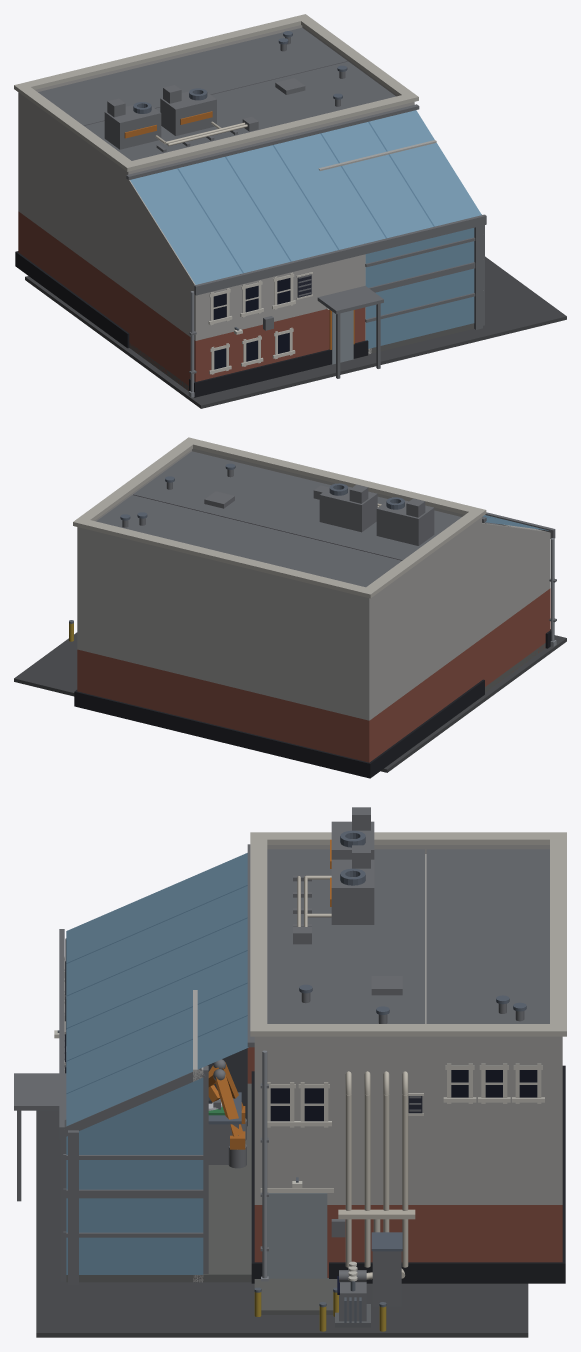
The model's file is high_tech_manufactory_lvl2.glb.
3 renders of one model, top to bottom at view 1: azimuth 30°, elevation 25°; view 2: azimuth 150°, elevation 25°; view 3: azimuth 270°, elevation 25°, orthographic. The views are drawn at different scales.
Parts seen in each view (by area): view 1: high_tech_manufactory, high_tech_manufactory_Glass; view 2: high_tech_manufactory; view 3: high_tech_manufactory, high_tech_manufactory_Glass.
Part boxes in pixels (bbox=[...]): high_tech_manufactory: bbox=[14, 14, 566, 408]; high_tech_manufactory_Glass: bbox=[130, 110, 481, 348]; high_tech_manufactory: bbox=[14, 437, 566, 778]; high_tech_manufactory: bbox=[14, 807, 566, 1337]; high_tech_manufactory_Glass: bbox=[66, 853, 248, 1274].
Bounding box in the file's own units: 0.9014 × 0.5029 × 0.8439.
